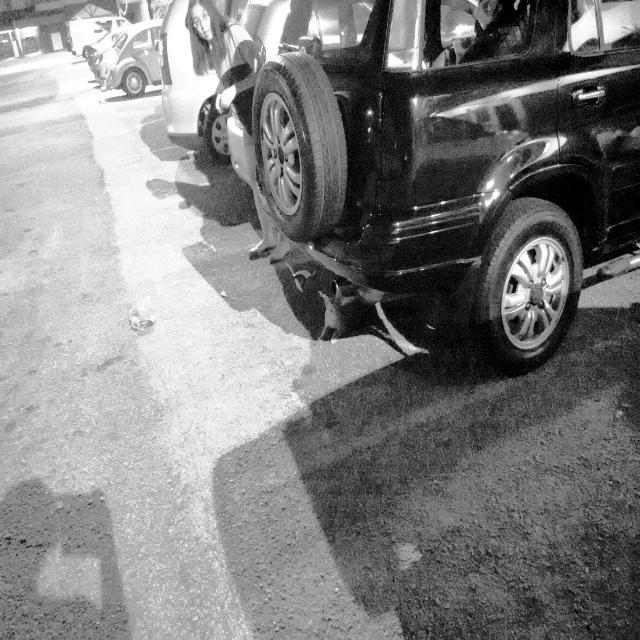Car: (250, 8, 640, 374), (224, 0, 394, 206), (132, 0, 260, 159), (104, 17, 195, 103), (85, 23, 145, 87)
Cat: (315, 282, 365, 345)
Person: (177, 0, 299, 271)
